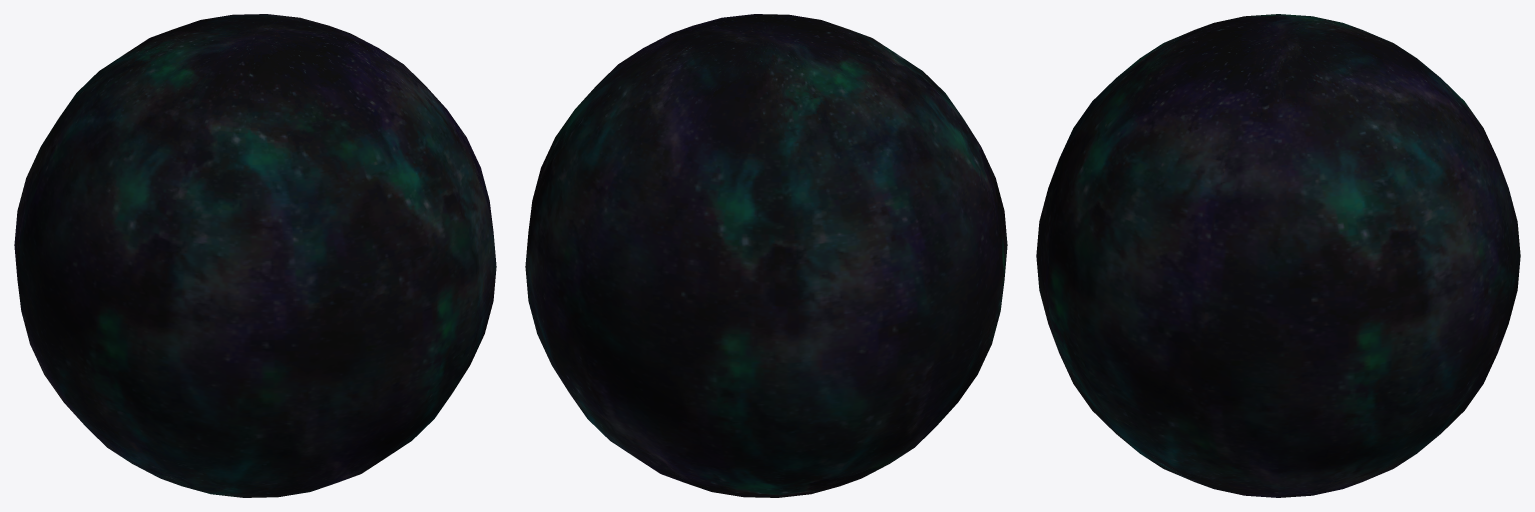
File: dw_orb.dae
3 views of the same model, side by side, from view 1: azimuth 30°, elevation 25°; view 2: azimuth 150°, elevation 25°; view 3: azimuth 270°, elevation 25° (orthographic).
Visible parts, largest first — view 1: dw_orb_secon_layer; view 2: dw_orb_secon_layer; view 3: dw_orb_secon_layer.
Part boxes in pixels (left/top/right/bottom): dw_orb_secon_layer: left=14, top=14, right=496, bottom=497; dw_orb_secon_layer: left=525, top=14, right=1007, bottom=497; dw_orb_secon_layer: left=1036, top=14, right=1520, bottom=497.
Size of the model in its own units: 16.29 by 16.29 by 16.29.
